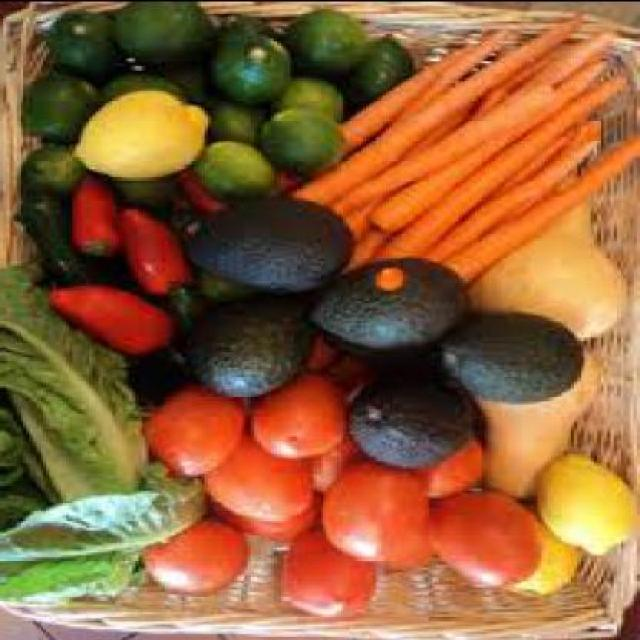BIODEGRADABLE: (301, 15, 587, 200), (386, 72, 634, 257), (376, 59, 610, 226), (4, 259, 151, 504), (3, 460, 225, 606), (337, 79, 568, 210), (448, 129, 638, 280), (472, 178, 633, 333), (425, 136, 604, 259), (482, 344, 610, 491), (185, 196, 360, 290), (314, 255, 478, 351), (436, 306, 587, 400), (185, 289, 320, 393), (349, 44, 478, 148), (73, 84, 215, 176), (352, 370, 476, 462), (432, 486, 548, 583), (537, 446, 638, 556), (326, 455, 439, 551), (53, 277, 178, 354), (148, 382, 250, 475), (212, 428, 316, 517), (498, 113, 610, 193), (144, 509, 253, 591), (255, 368, 356, 452), (416, 27, 518, 108), (284, 530, 379, 616), (122, 202, 205, 292), (23, 193, 109, 279), (509, 27, 613, 96), (115, 2, 220, 68), (211, 481, 327, 537), (261, 104, 350, 173), (217, 24, 294, 99), (56, 5, 132, 80), (22, 72, 100, 143), (293, 3, 370, 74), (198, 136, 284, 193), (518, 517, 584, 591), (350, 28, 416, 98), (73, 170, 122, 250), (277, 69, 349, 122), (429, 435, 488, 494), (99, 65, 192, 102), (321, 345, 382, 398), (26, 142, 92, 188), (211, 94, 277, 138), (310, 440, 362, 492), (119, 176, 184, 216), (4, 480, 62, 522), (3, 406, 34, 482), (182, 164, 230, 210), (217, 10, 294, 38), (383, 544, 435, 576), (353, 224, 393, 264), (180, 59, 218, 96)
